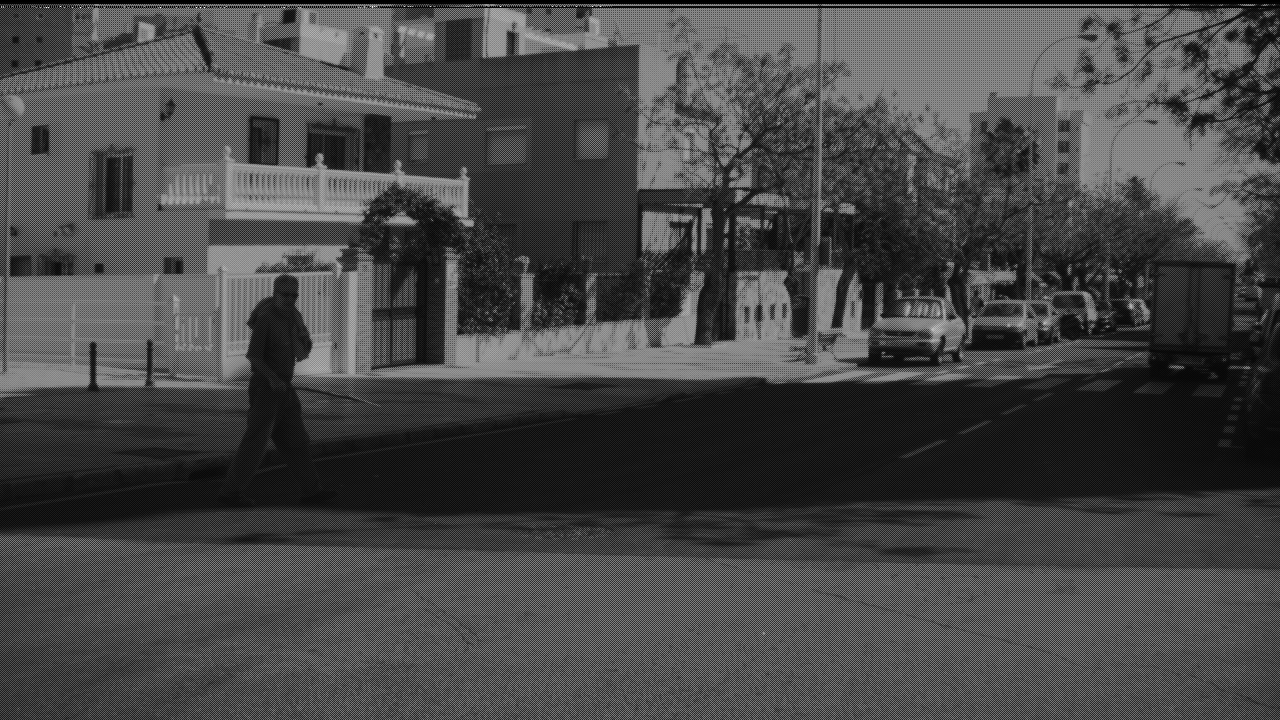pole: (806, 1, 822, 357), (1025, 67, 1033, 291)
